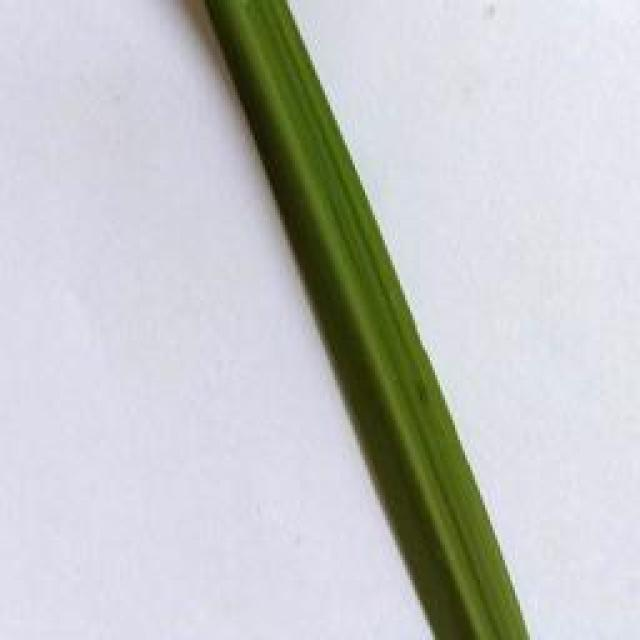Bacterial_Blight: (208, 0, 533, 640)
